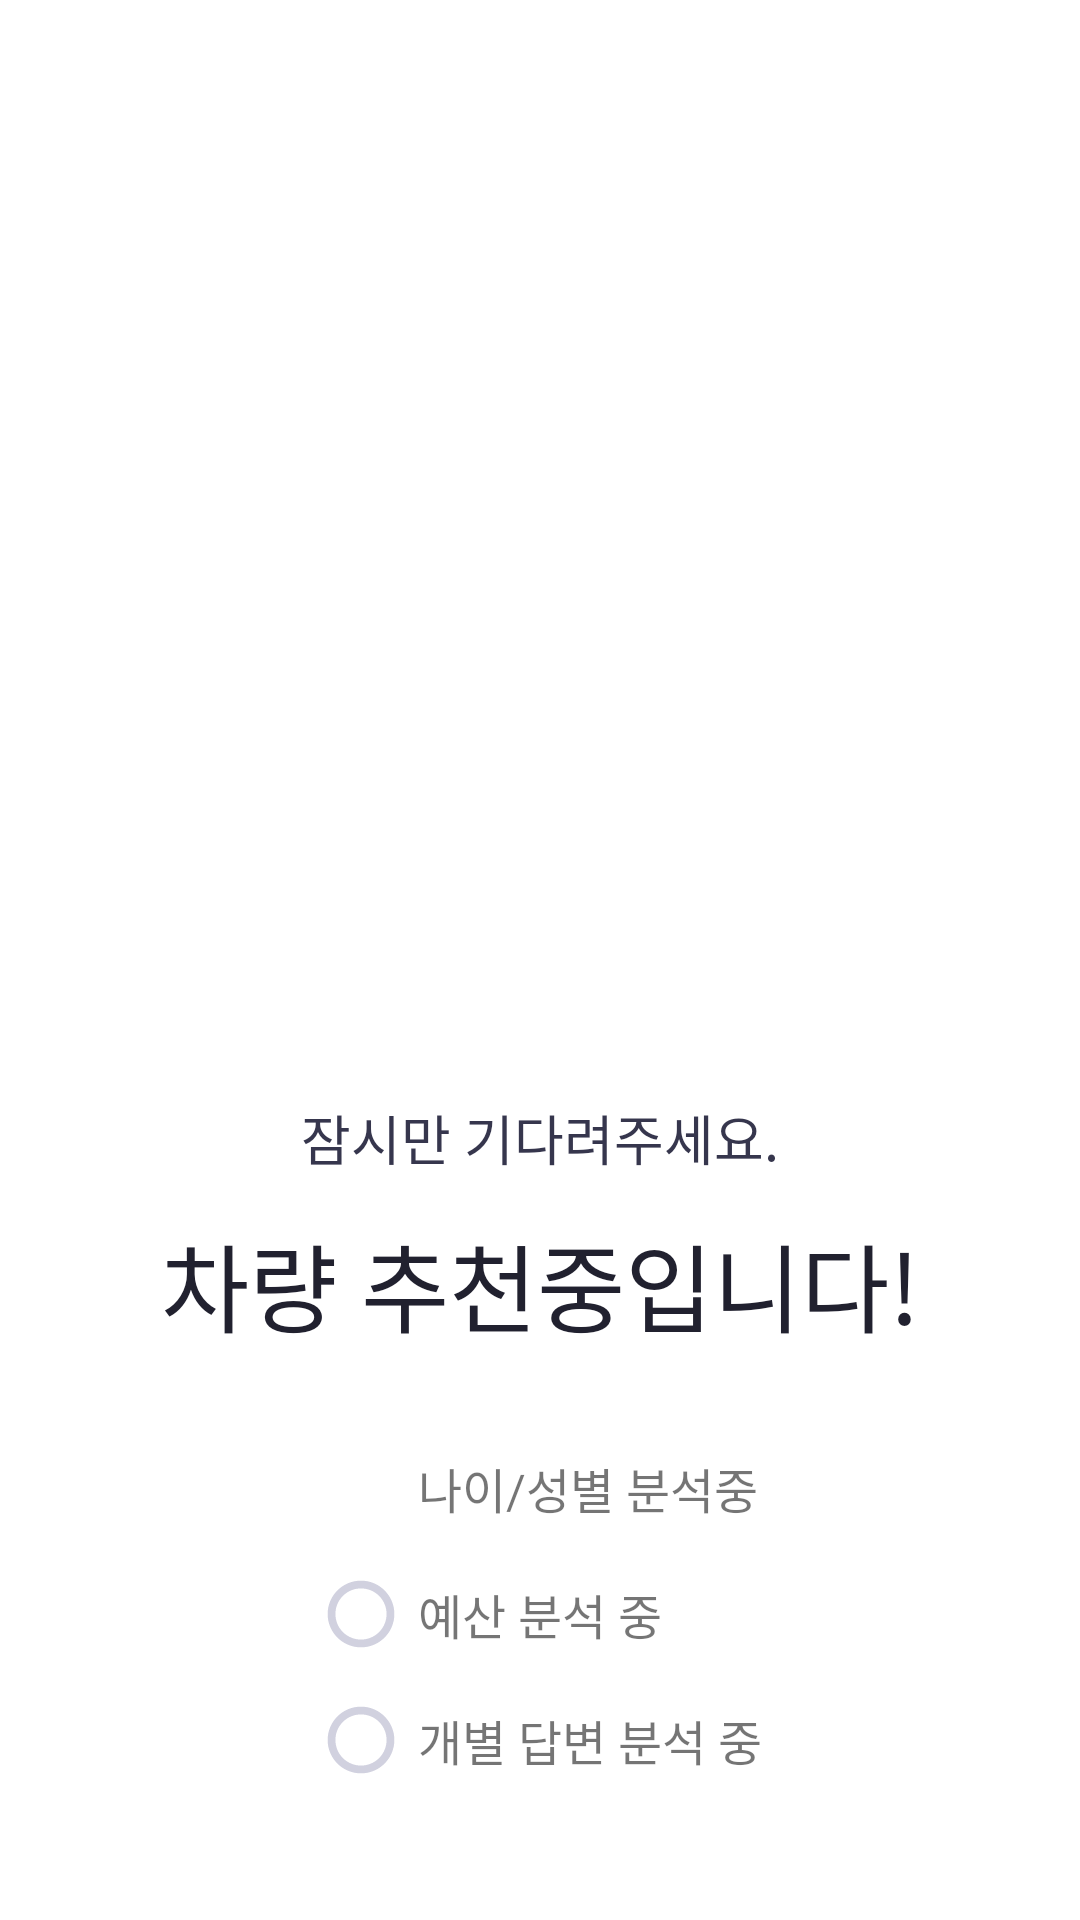

Named icons in this screenshot (1080px×1920px) and their centers, (x=x, y=y):
circle: (x=361, y=1614), (x=361, y=1740)
